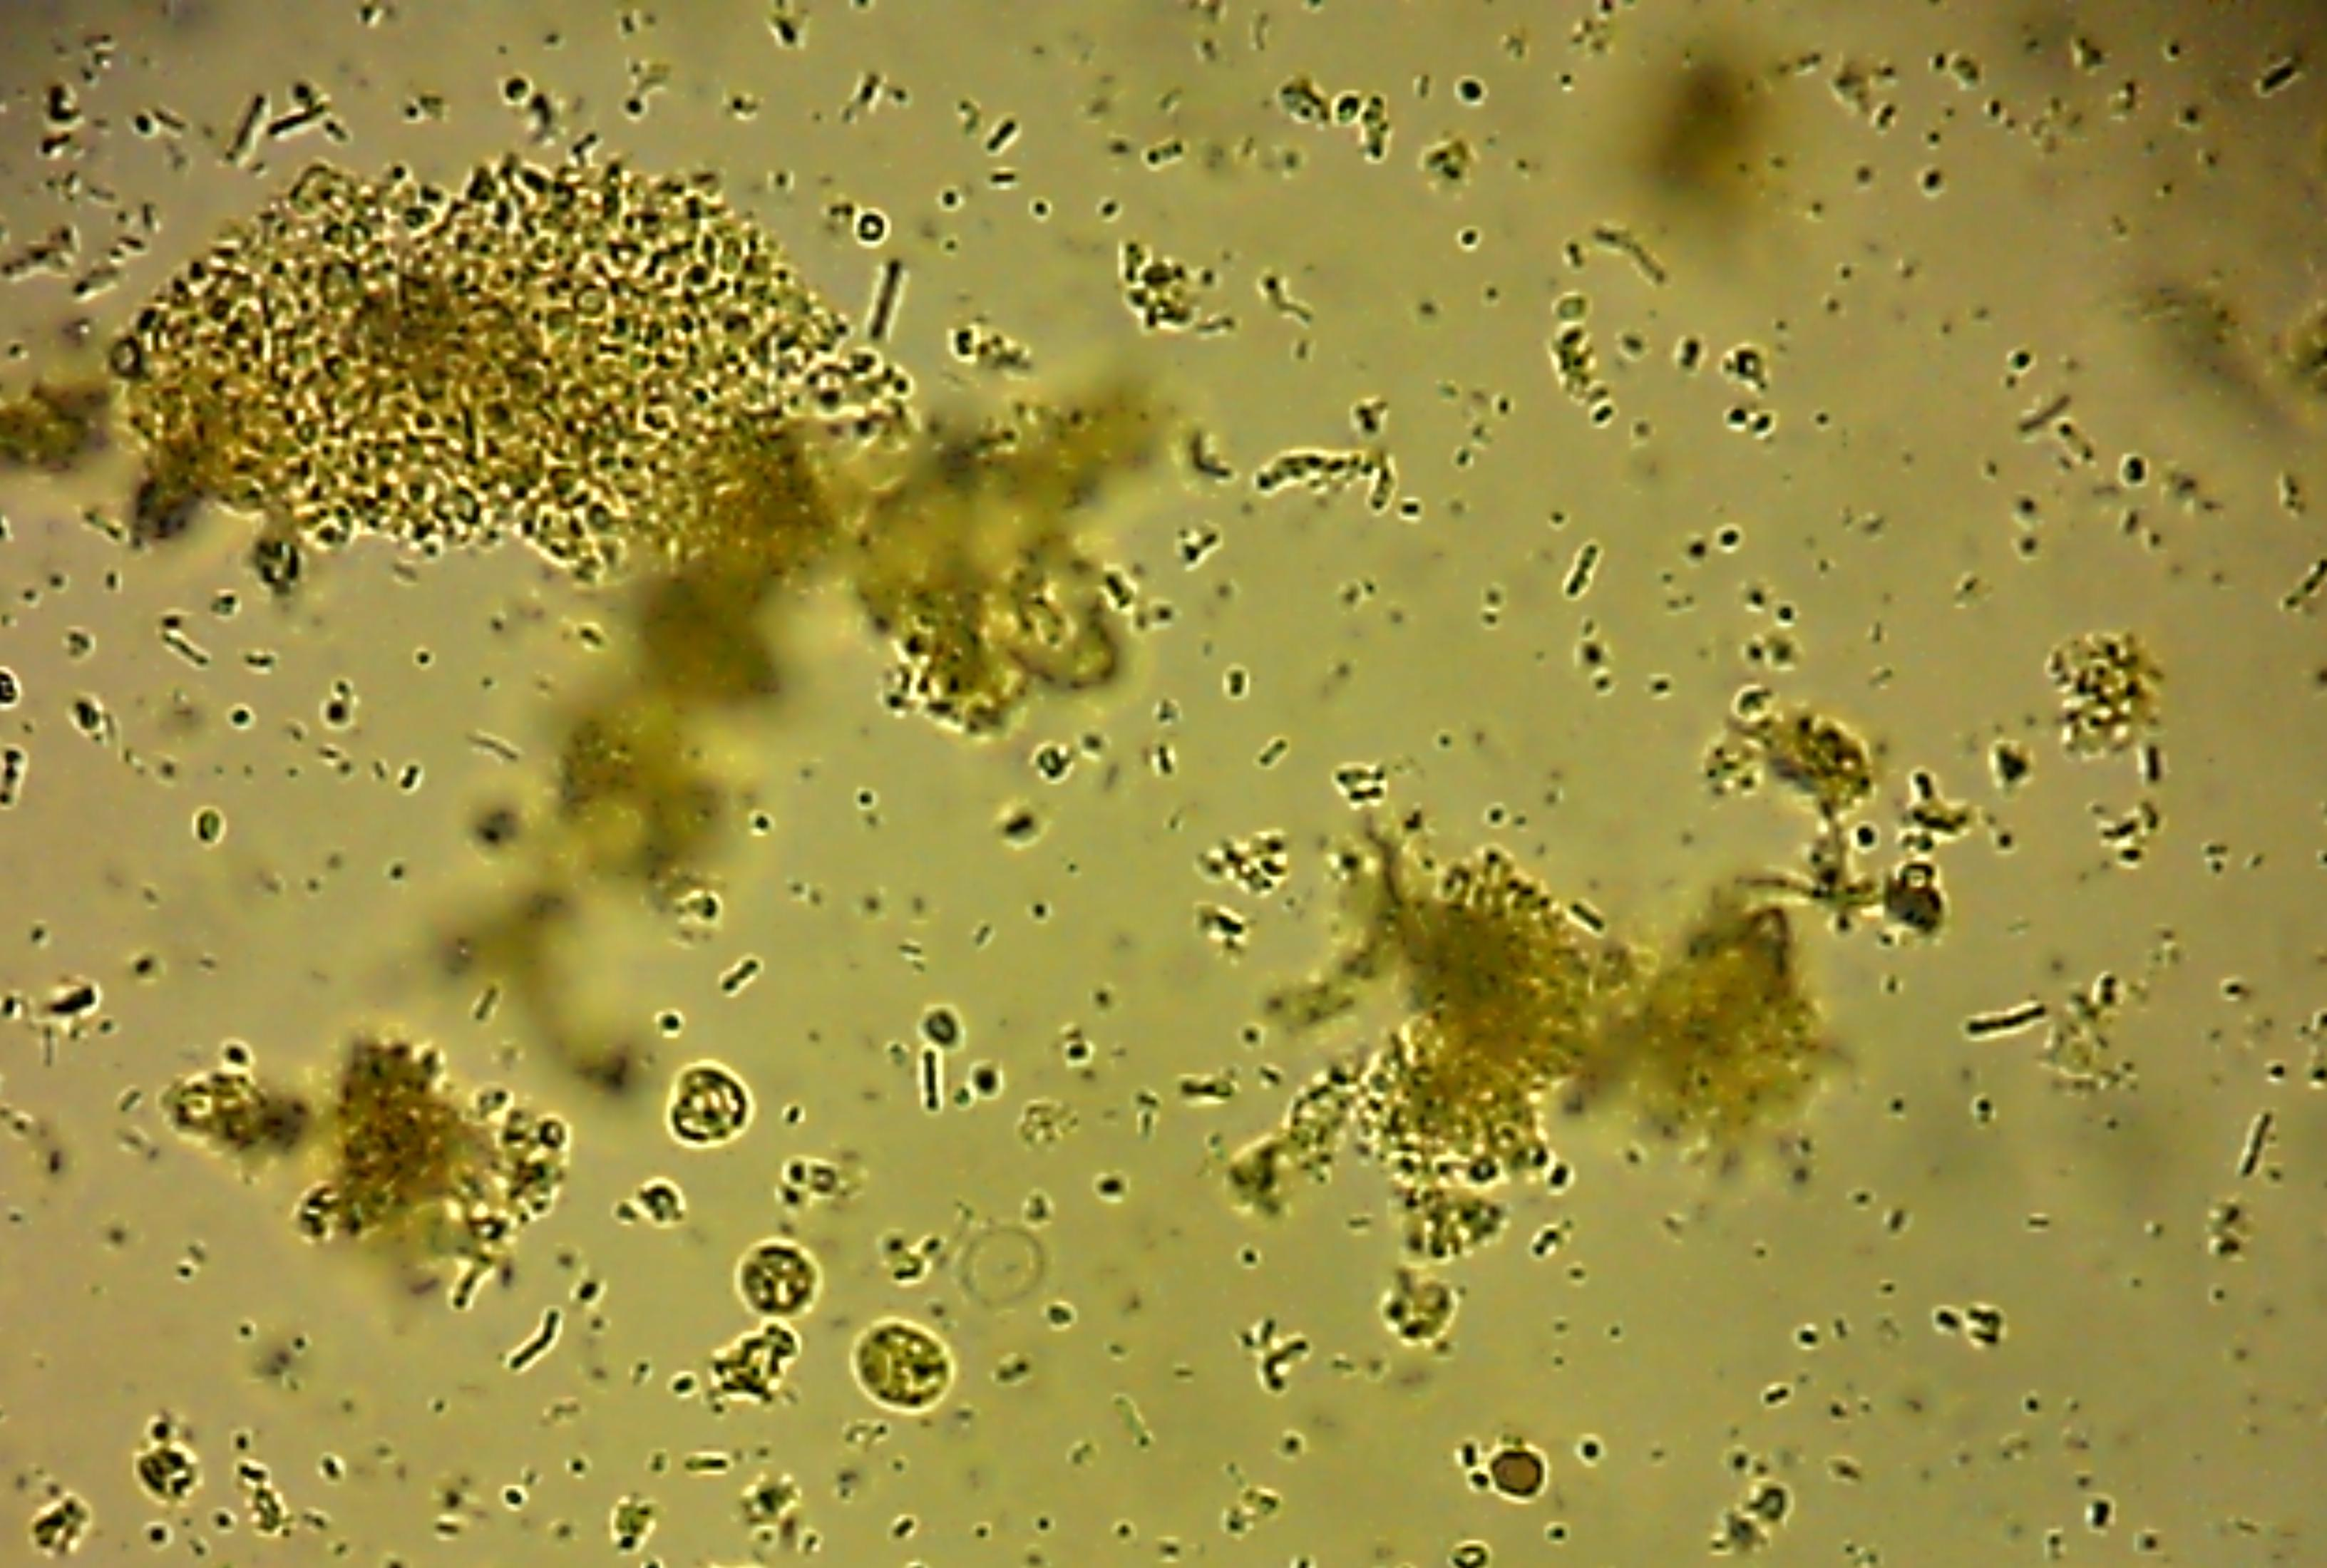Amebae: (850, 1316, 959, 1416), (737, 1237, 824, 1326)
